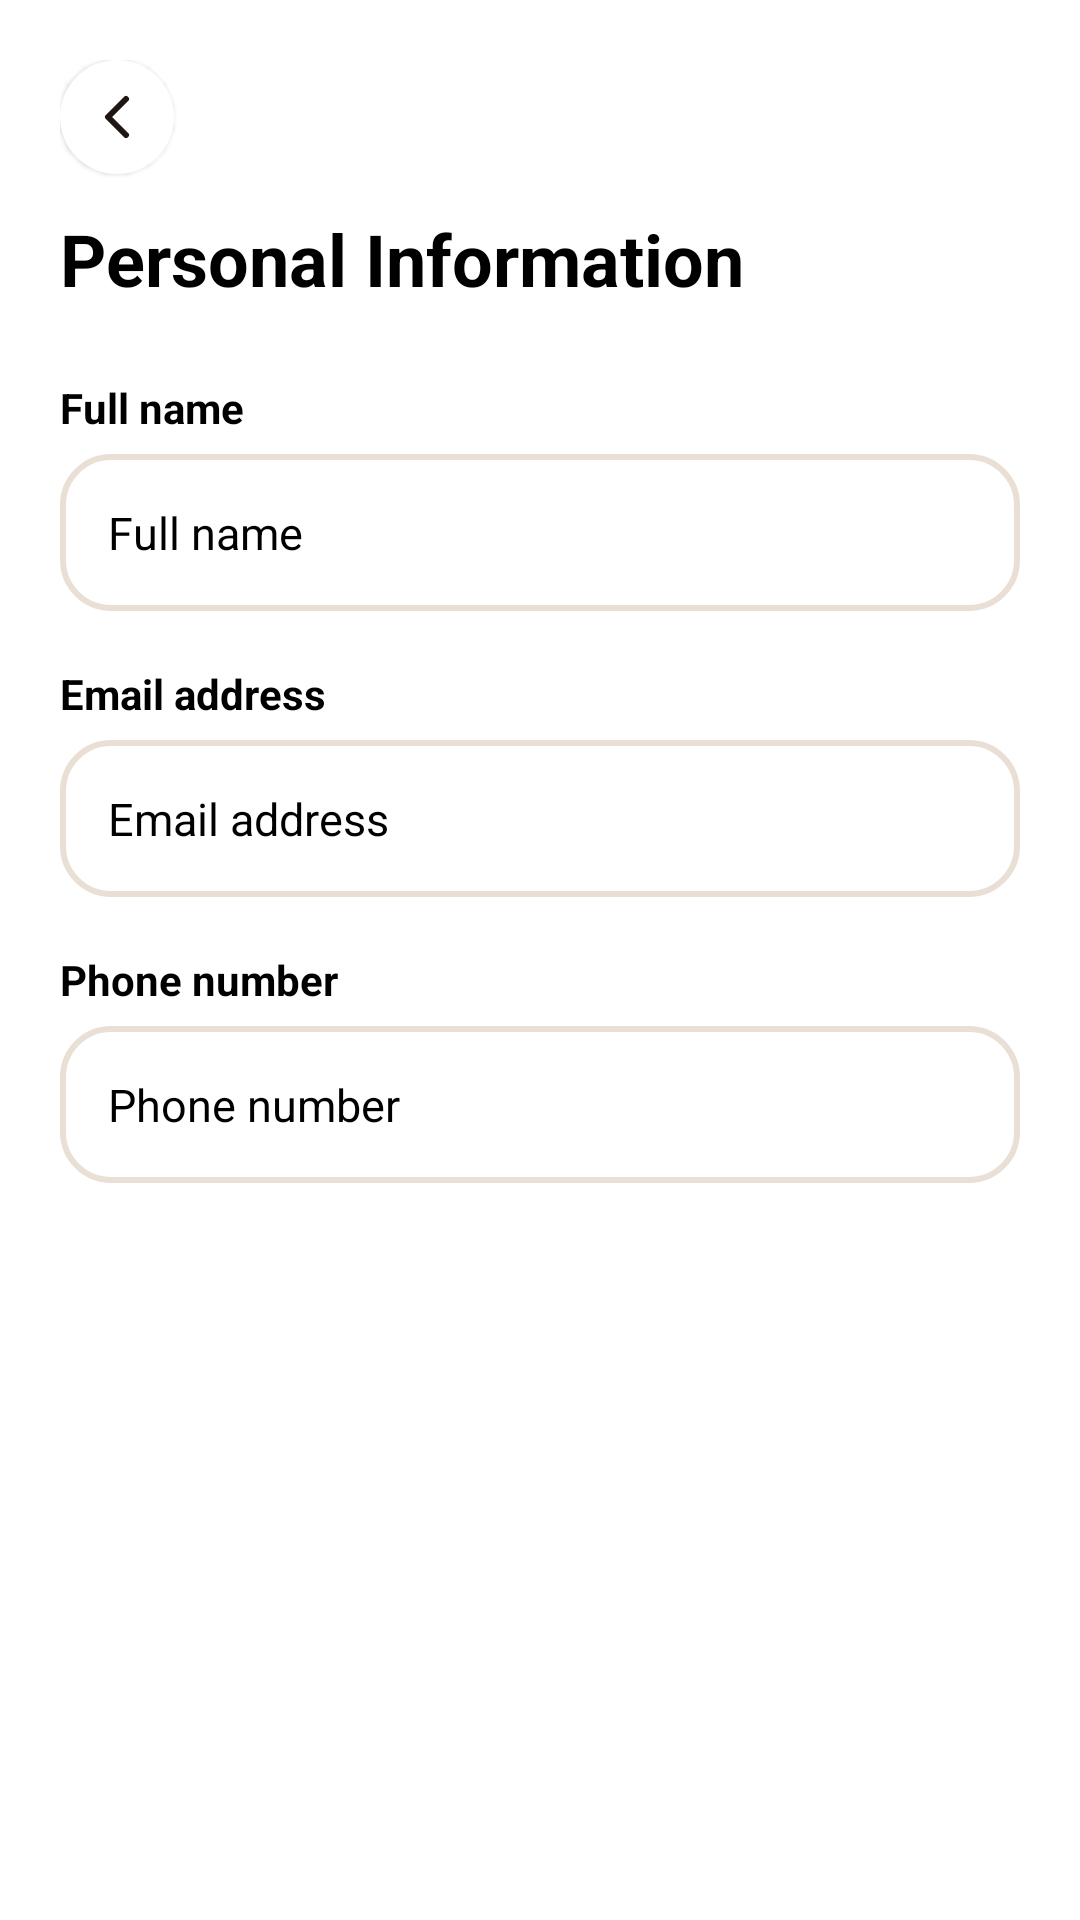

Point at icon controls on the screen. Image size 1080 × 1920, points as (x,y).
Navigate Back: (94,125)
